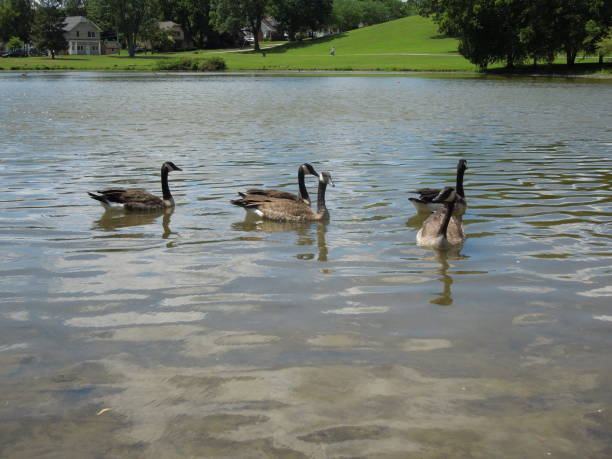goose: (228, 172, 335, 222), (84, 160, 184, 211), (234, 161, 321, 201), (416, 186, 467, 252), (408, 157, 470, 211)
